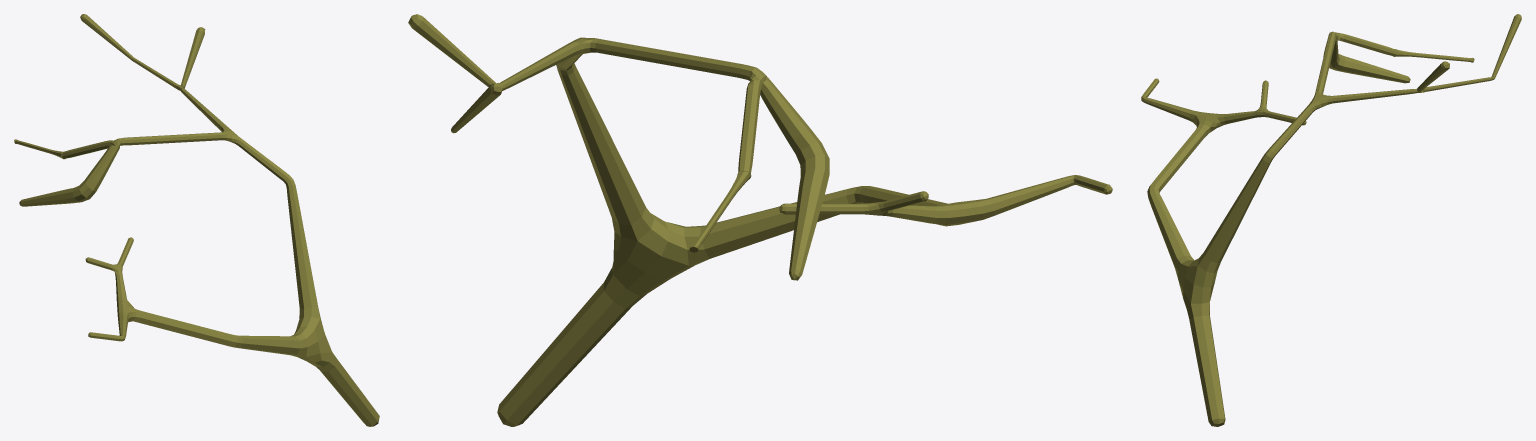
Rendered from DeadTreeColor.fbx.
3 renders of one model, left to right at view 1: azimuth 30°, elevation 25°; view 2: azimuth 150°, elevation 25°; view 3: azimuth 270°, elevation 25°, orthographic. The views are drawn at different scales.
Visible parts, largest first — view 1: Cube; view 2: Cube; view 3: Cube.
Part boxes in pixels (box(x1,y1,x2,y2)): Cube: box(14, 14, 379, 426); Cube: box(408, 14, 1112, 426); Cube: box(1141, 14, 1521, 426).
Size of the model in its own units: 346 by 349 by 350.
